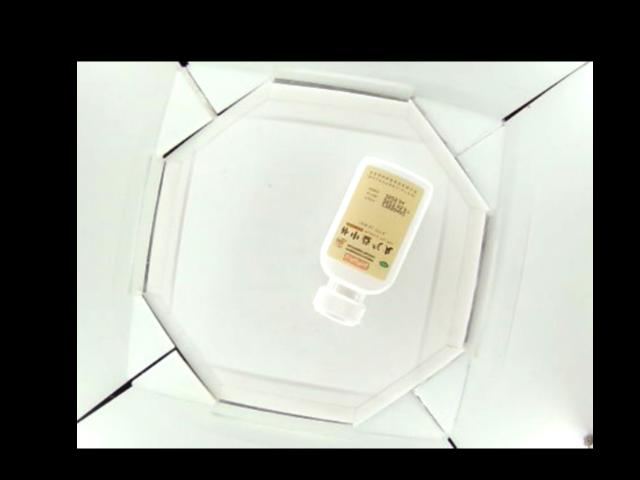Bottle: (310, 154, 435, 326)
